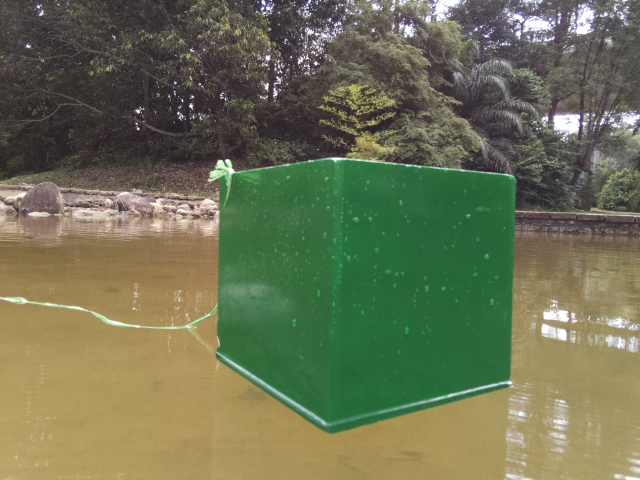obstacle: (213, 154, 516, 435)
